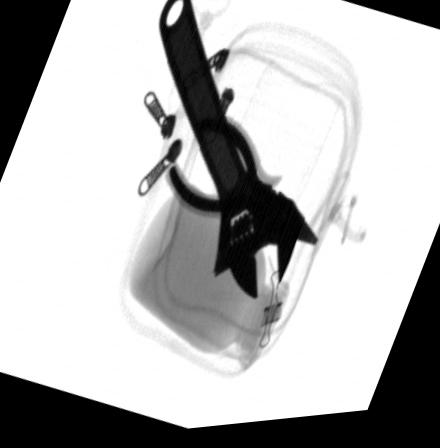Pliers: (166, 119, 316, 251)
Wrench: (155, 0, 299, 305)
